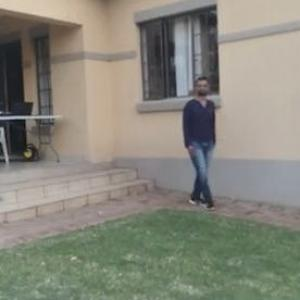follow: (174, 70, 217, 214)
